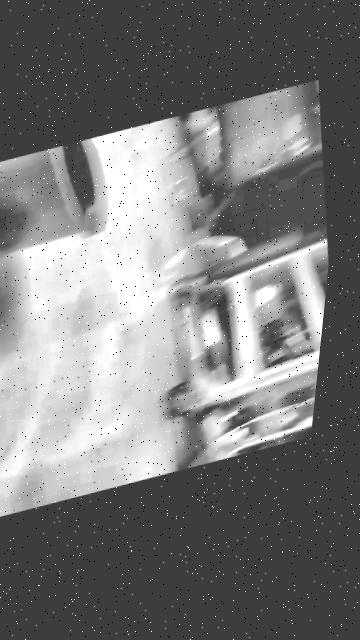pot: (0, 134, 117, 267)
